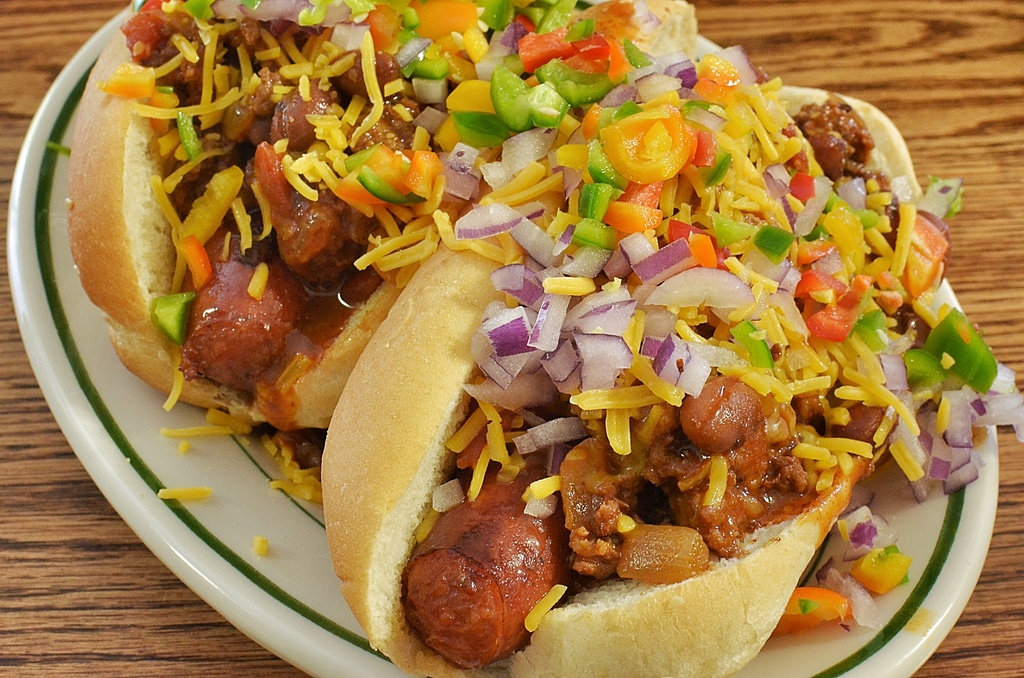hot_dog: (260, 32, 1006, 678), (68, 0, 493, 435)
